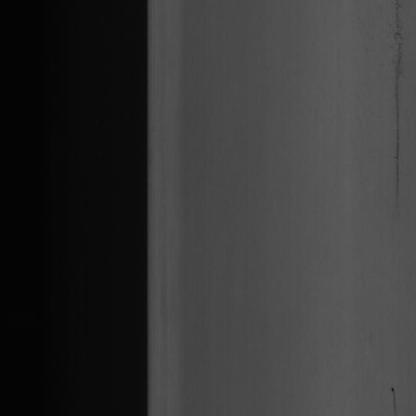inclusion: (390, 7, 406, 199), (388, 378, 400, 415)
